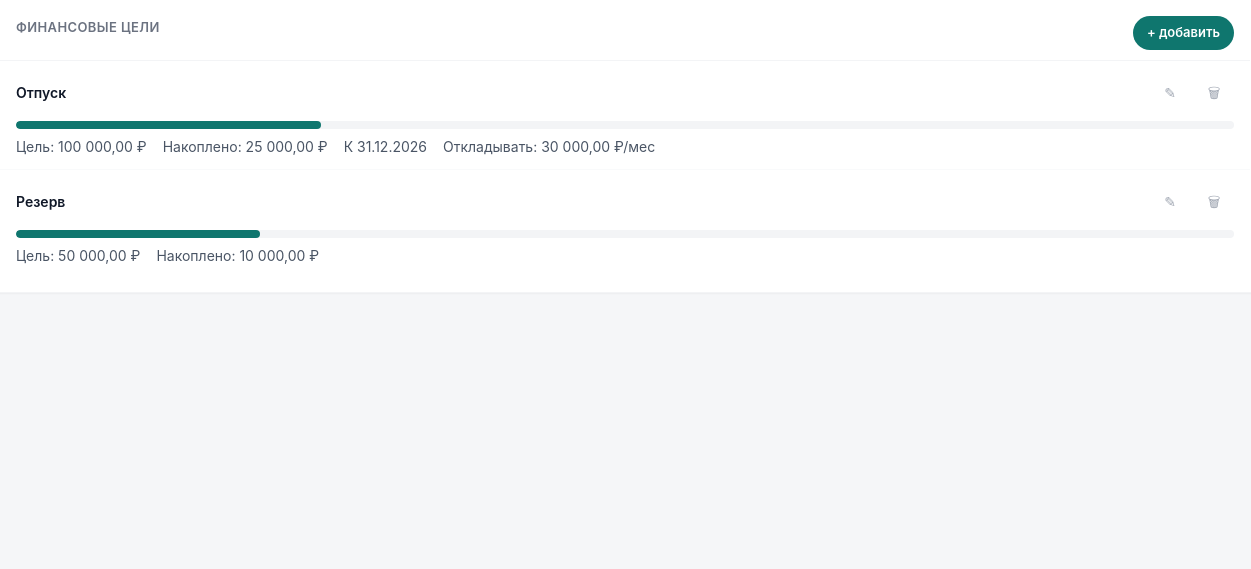
Test: GoalsComponent › открывает_редактирование_с_текущими_названием_суммой_счётом_и_датой
The width and height of the screenshot is (1251, 569).
Click the button named "Редактировать цель" at [1170, 92], box [1150, 72, 1190, 112]
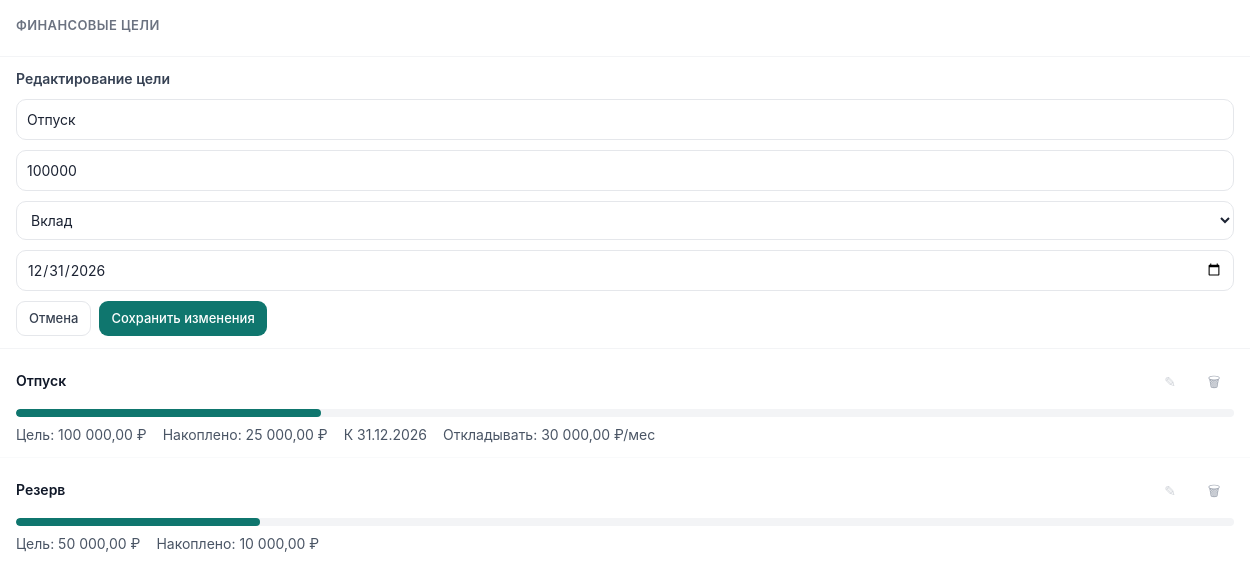
Expected: the field named "Название цели" holds "Отпуск", [16, 98, 1234, 140]
Expected: the number field named "Целевая сумма" holds "100000", [16, 150, 1234, 190]
Expected: the date field named "Дата достижения" holds "2026-12-31", [16, 250, 1234, 290]
